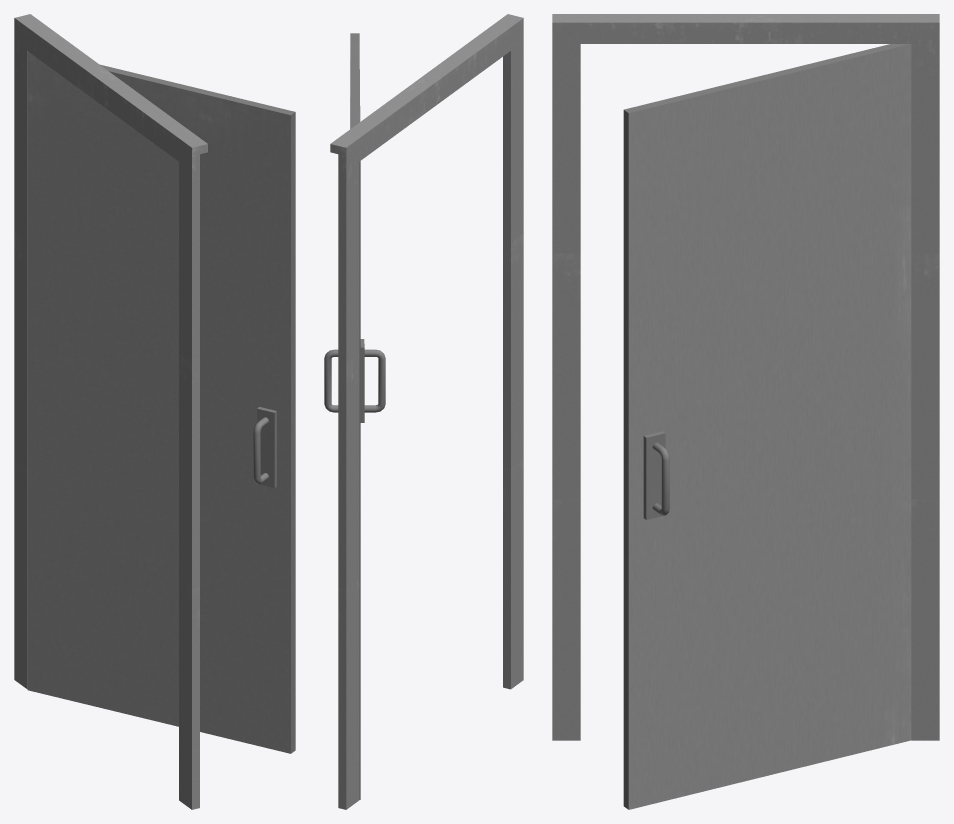
The model's file is Door.fbx.
3 views of the same model, side by side, from view 1: azimuth 30°, elevation 25°; view 2: azimuth 150°, elevation 25°; view 3: azimuth 270°, elevation 25° (orthographic). The views are drawn at different scales.
Visible parts, largest first — view 1: Door_Knock_2.003, Door_Place; view 2: Door_Place, Door_Knock_2.003; view 3: Door_Knock_2.003, Door_Place.
Boxes of the visible parts, x1,y1,x2,y2 form: Door_Knock_2.003: (27, 51, 295, 753); Door_Place: (14, 14, 207, 809); Door_Place: (330, 14, 523, 809); Door_Knock_2.003: (324, 33, 385, 799); Door_Knock_2.003: (623, 44, 911, 809); Door_Place: (552, 14, 939, 740).
Bounding box in the file's own units: 78.86 × 338 × 164.
